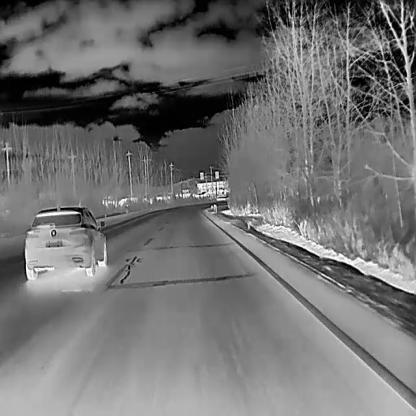car: (23, 205, 108, 280)
